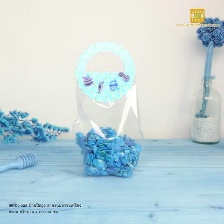snack: (66, 37, 151, 182)
